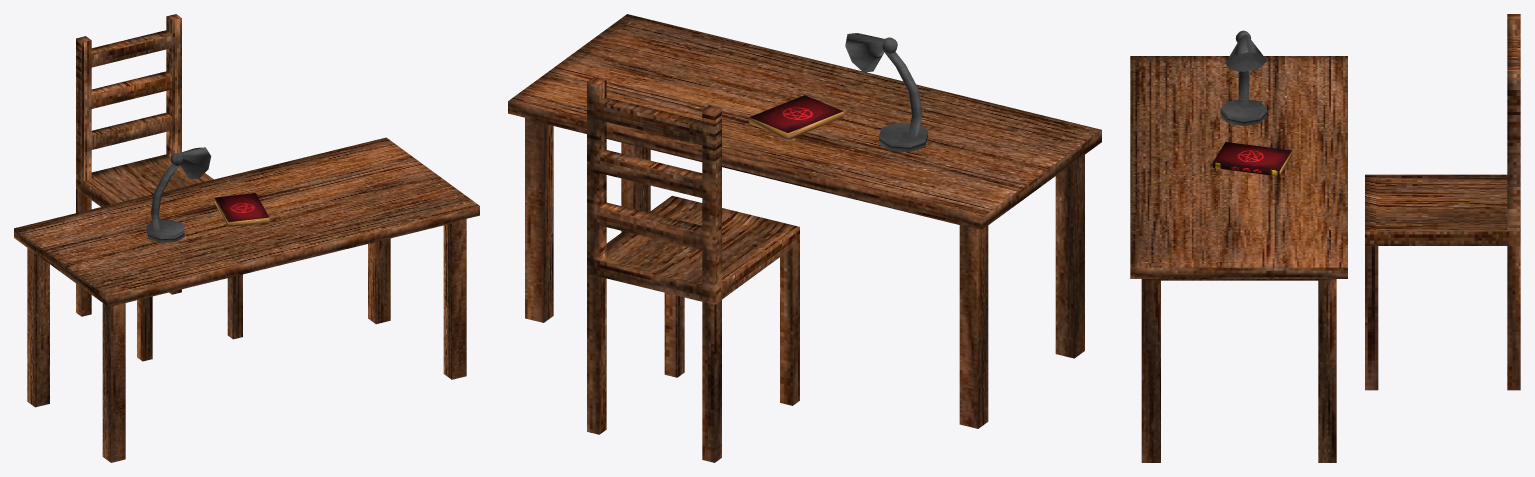
The model's file is wooden chair and desk and book psx.glb.
3 renders of one model, left to right at view 1: azimuth 30°, elevation 25°; view 2: azimuth 150°, elevation 25°; view 3: azimuth 270°, elevation 25°, orthographic. The views are drawn at different scales.
Parts seen in each view (by area): view 1: desk, chair, lamp, book; view 2: desk, chair, lamp, book; view 3: desk, chair, lamp, book.
Part boxes in pixels (left/top/right/bottom): desk: left=14, top=137, right=479, bottom=462; chair: left=76, top=14, right=242, bottom=361; lamp: left=146, top=147, right=211, bottom=242; book: left=214, top=193, right=269, bottom=226; desk: left=508, top=14, right=1101, bottom=428; chair: left=587, top=77, right=799, bottom=462; lamp: left=845, top=33, right=927, bottom=152; book: left=749, top=95, right=843, bottom=139; desk: left=1130, top=56, right=1347, bottom=462; chair: left=1365, top=14, right=1520, bottom=390; lamp: left=1220, top=30, right=1266, bottom=126; book: left=1213, top=142, right=1292, bottom=176.
Bounding box in the file's own units: 5.67 × 3.99 × 4.42.
4 materials, 4 textured.
